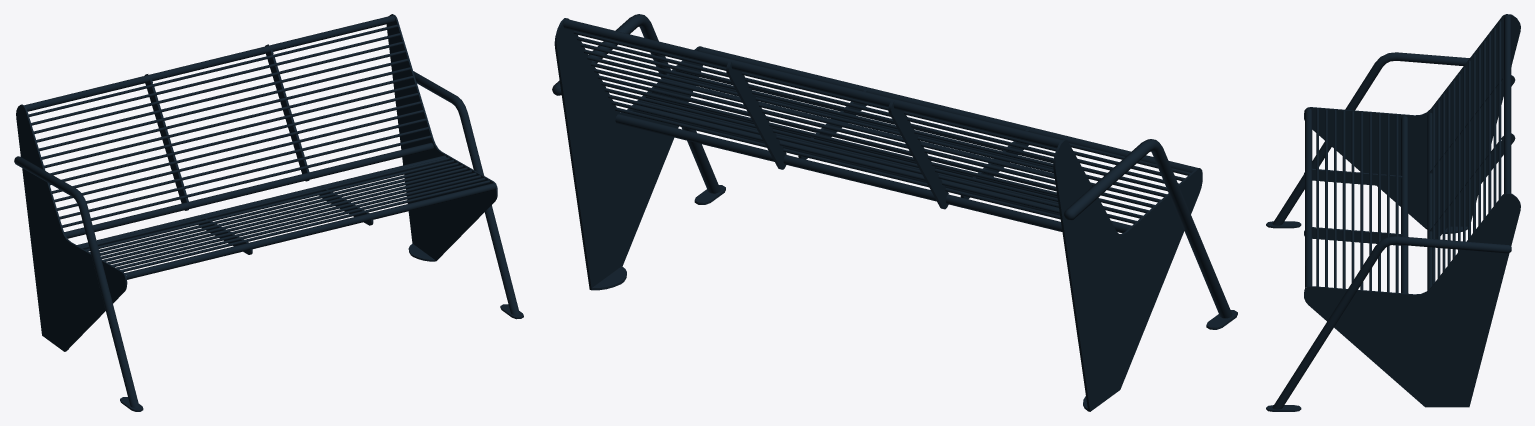
The picture shows the model from 3 angles, left to right: view 1: azimuth 30°, elevation 25°; view 2: azimuth 150°, elevation 25°; view 3: azimuth 270°, elevation 25°; orthographic projection. The views are drawn at different scales.
Parts seen in each view (by area): view 1: SM_431; view 2: SM_431; view 3: SM_431.
Boxes of the visible parts, x1,y1,x2,y2 form: SM_431: (14,14,523,411); SM_431: (552,14,1237,411); SM_431: (1266,14,1520,411).
Size of the model in its own units: 1.51 by 0.7969 by 0.862.
